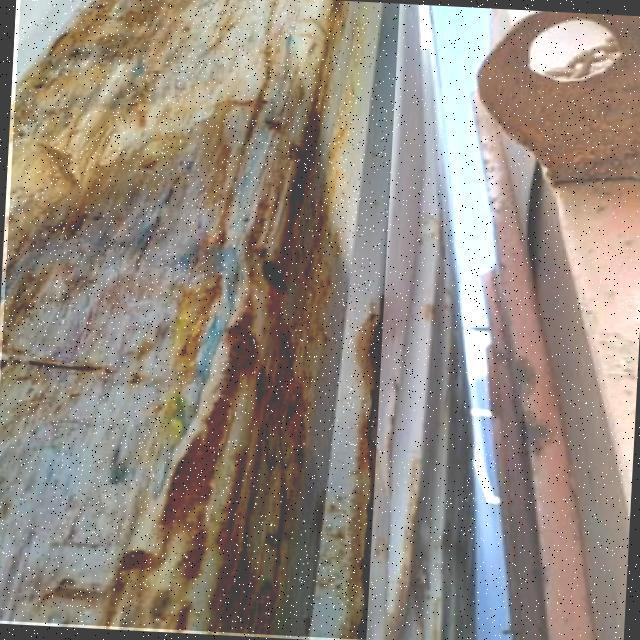Rust: (0, 0, 400, 640)
